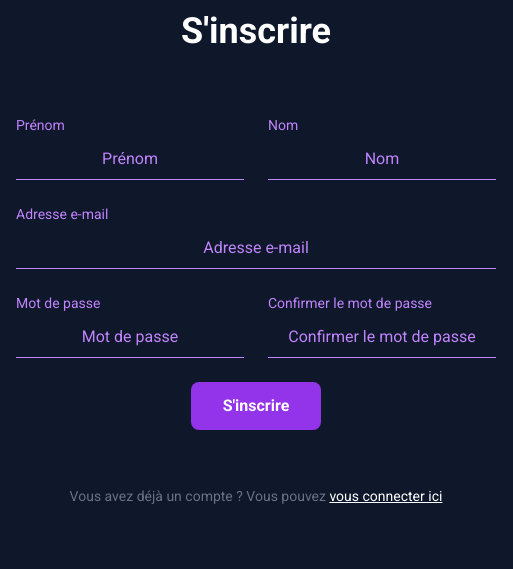
Test case: Register › affiche le message de confirmation après une inscription réussie
The width and height of the screenshot is (513, 569).
Type "John" into the field with placeholder "Prénom" at (130, 160), box [16, 139, 244, 180]
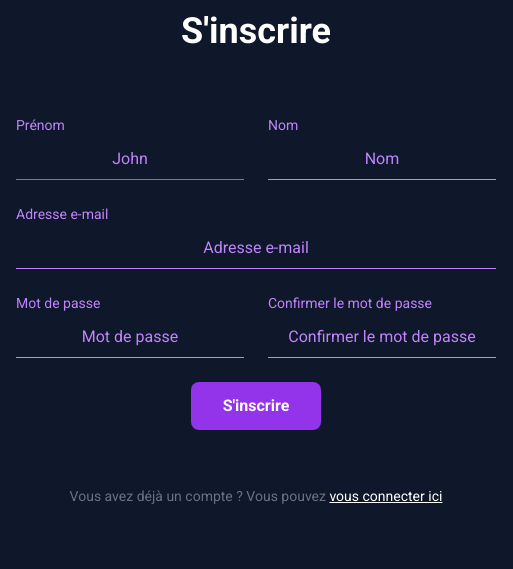
Type "Doe" into the field with placeholder "Nom" at (382, 160), box [268, 139, 496, 180]
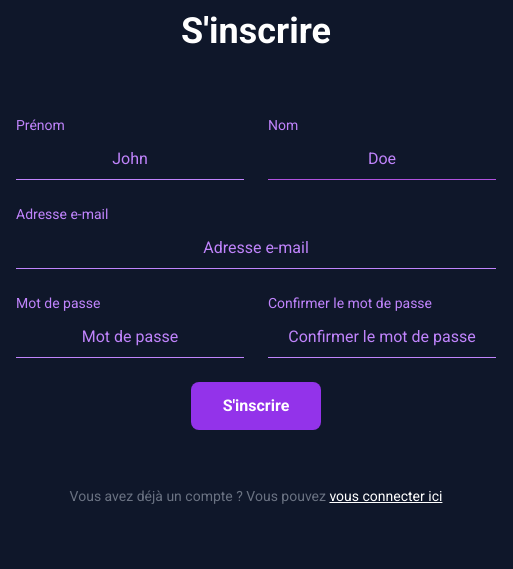
Type "john@example.com" into the field with placeholder "Adresse e-mail" at (256, 248), box [16, 228, 496, 269]
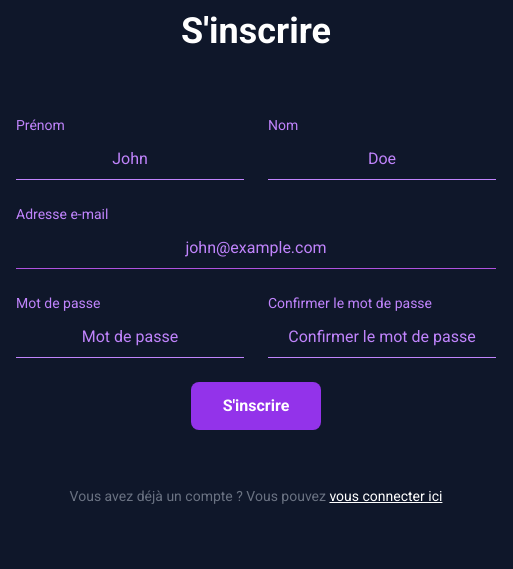
Type "s3curePassw0rd" into the password field with placeholder "Mot de passe" at (130, 338), box [16, 317, 244, 358]
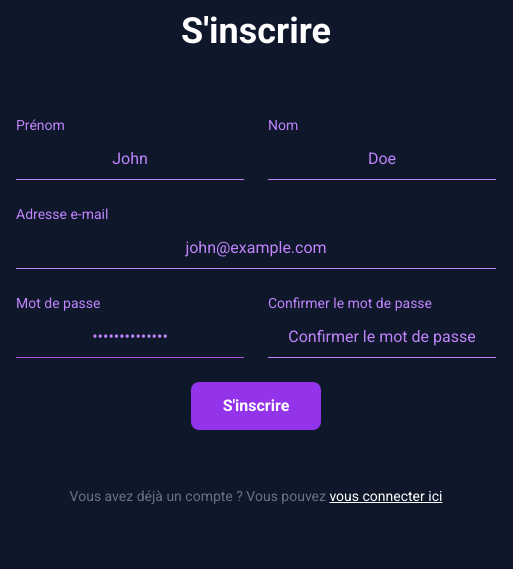
Type "s3curePassw0rd" into the password field with placeholder "Confirmer le mot de passe" at (382, 338), box [268, 317, 496, 358]
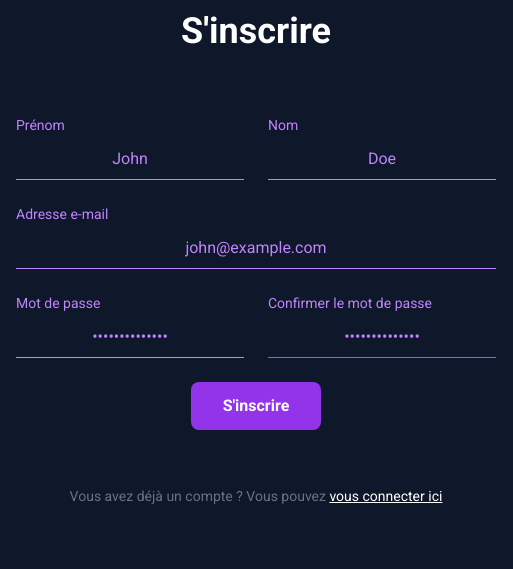
Click the button "S'inscrire" at (256, 406), box [191, 382, 321, 430]
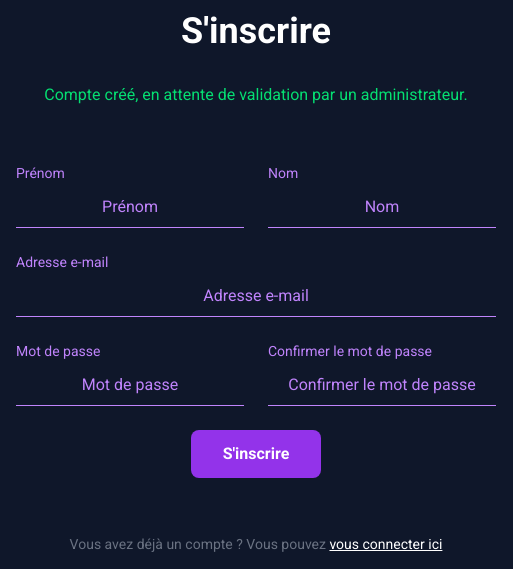
Expected: the message reads "Compte créé, en attente de validation par un administrateur.", [44, 85, 468, 104]
